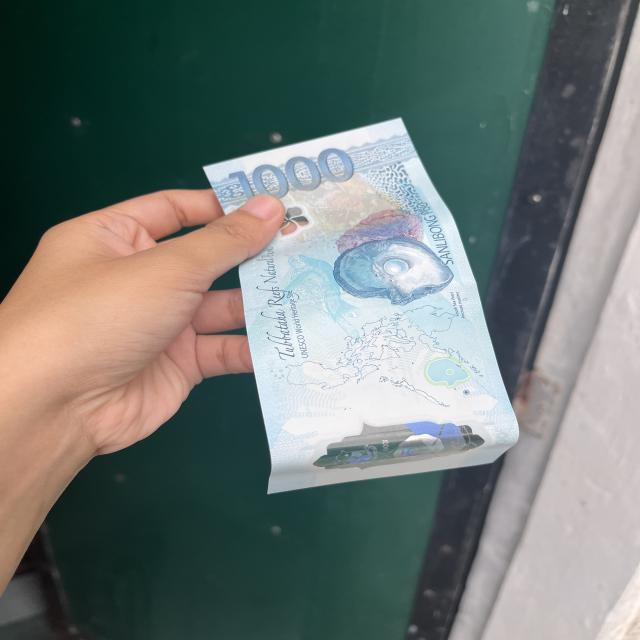clear_window: (266, 394, 522, 486)
sampaguita: (262, 199, 320, 244)
value: (225, 144, 365, 212)
